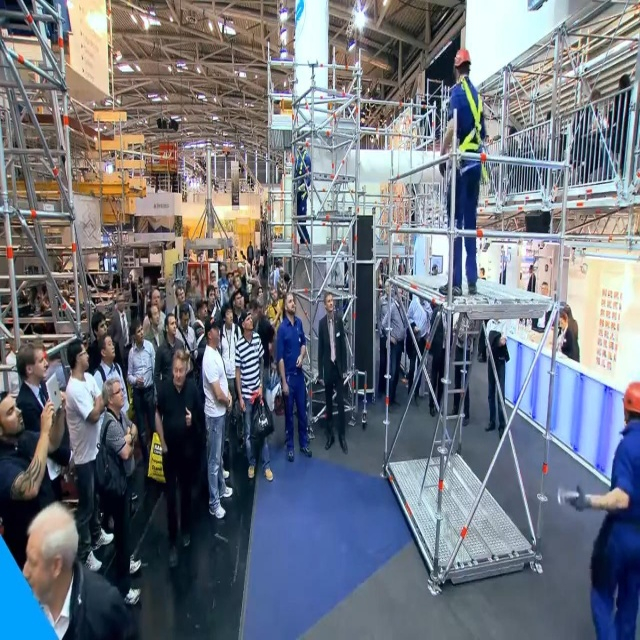Arnes_seguridad: (447, 78, 487, 177), (295, 148, 308, 190)
